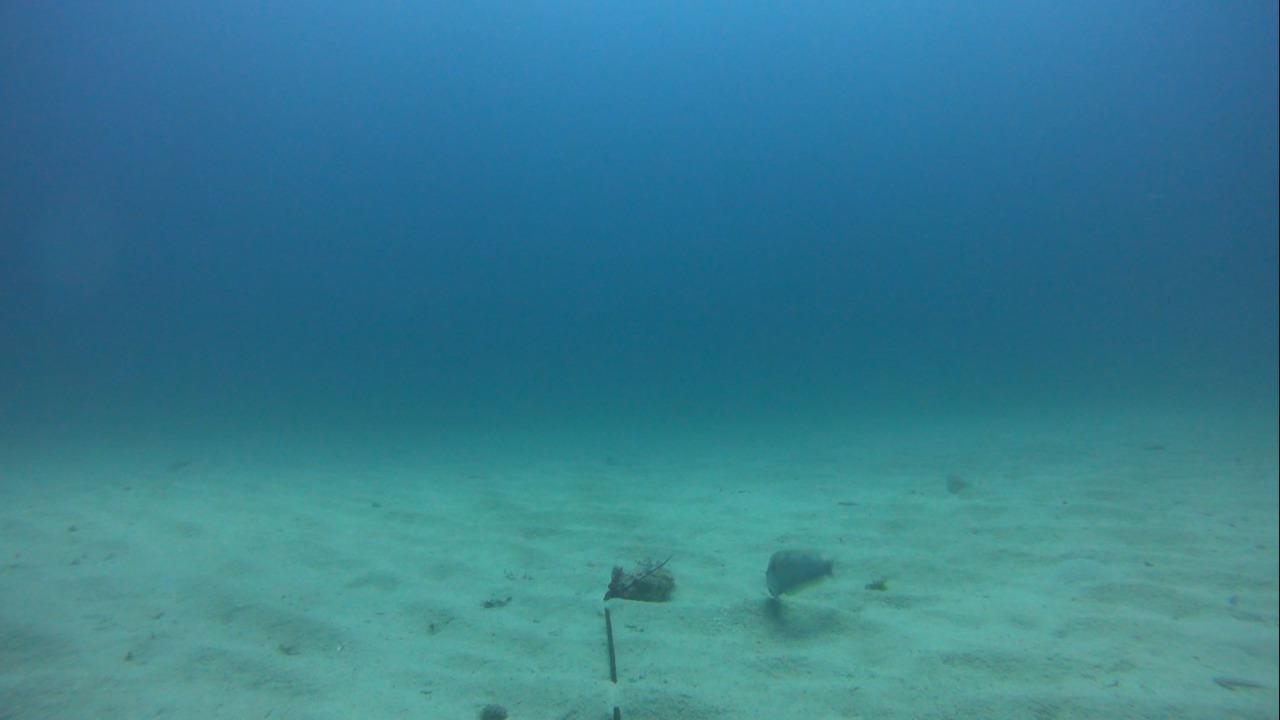raor: (760, 546, 842, 603), (930, 464, 980, 498)
